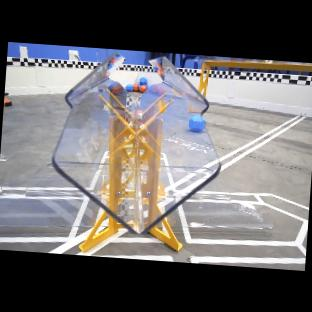V5_BLUE: (188, 113, 204, 131)
